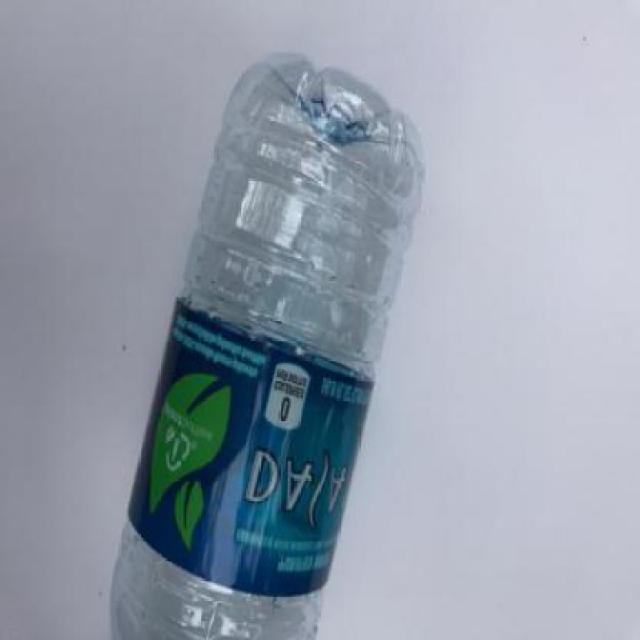PLASTIC: (109, 50, 426, 638), (129, 297, 376, 597)
